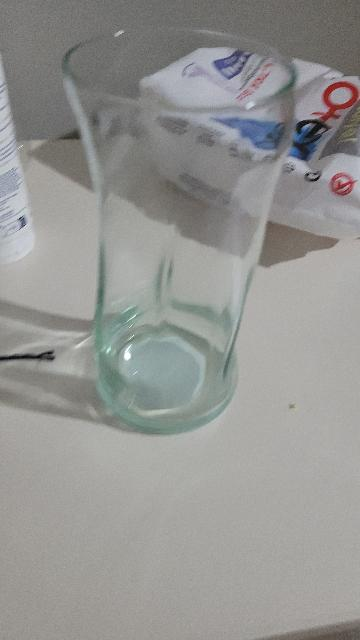Cam: (59, 25, 298, 431)
Plastik: (148, 39, 360, 241)
